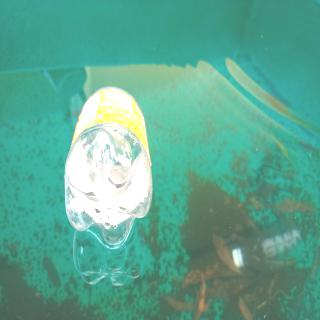bottle: (62, 85, 153, 250)
